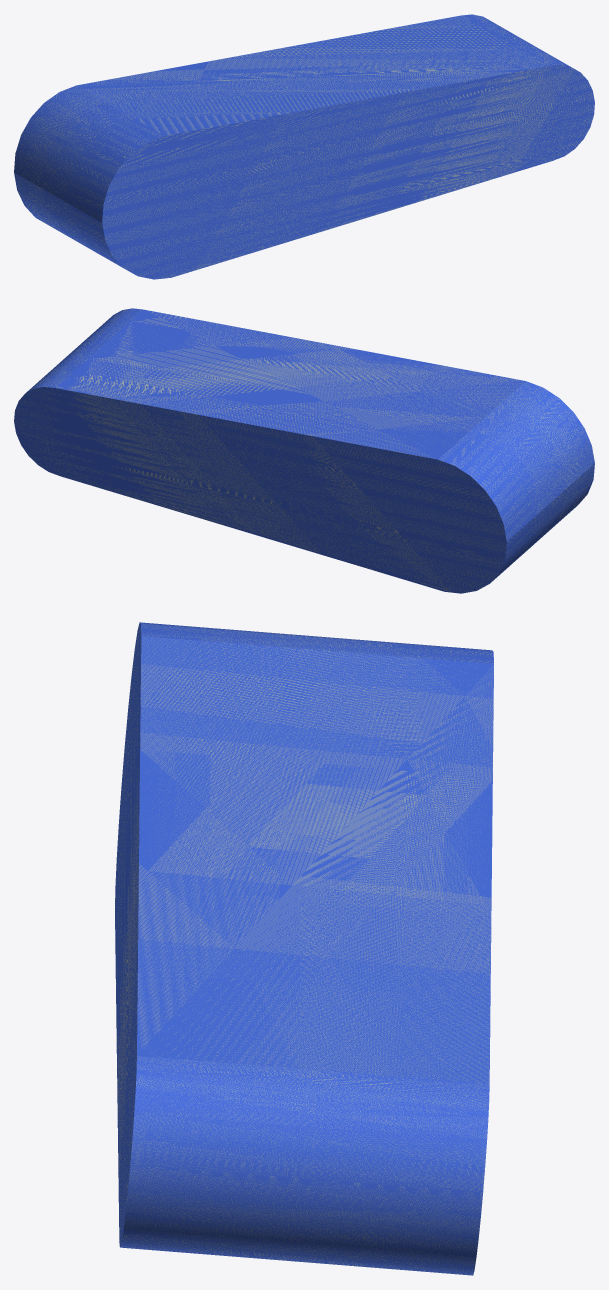
The model's file is p2RightFlipper.dae.
3 renders of one model, top to bottom at view 1: azimuth 30°, elevation 25°; view 2: azimuth 150°, elevation 25°; view 3: azimuth 270°, elevation 25°, orthographic. The views are drawn at different scales.
Visible parts, largest first — view 1: SketchUp; view 2: SketchUp; view 3: SketchUp.
Boxes of the visible parts, x1,y1,x2,y2 form: SketchUp: (14, 14, 594, 279); SketchUp: (14, 308, 594, 593); SketchUp: (115, 622, 493, 1275).
Bounding box in the file's own units: 443 × 148 × 130.
